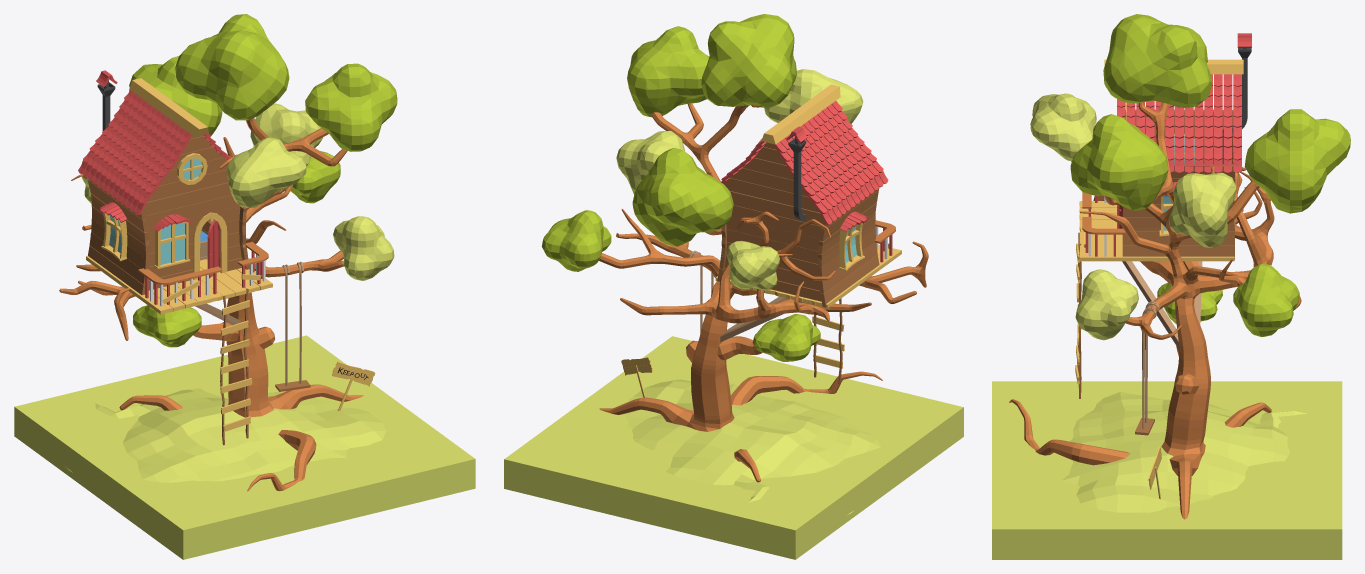
The model's file is Low Poly TreeHouse By EdwinRC.fbx.
3 views of the same model, side by side, from view 1: azimuth 30°, elevation 25°; view 2: azimuth 150°, elevation 25°; view 3: azimuth 270°, elevation 25° (orthographic). The views are drawn at different scales.
Parts seen in each view (by area): view 1: Cube.003, Plane.008, Cube.008, Plane.009, Cube.063, Cube, Cube.022, Cube.057, Cube.015; view 2: Plane.008, Cube.003, Cube.008, Plane.009, Cube.057, Cube.063; view 3: Plane.008, Cube.003, Plane.009, Cube.008, Cube.057, Cube, Cube.063.
Boxes of the visible parts, x1,y1,x2,y2 form: Cube.003: (14,335,475,559); Plane.008: (59,14,397,491); Cube.008: (78,78,272,314); Plane.009: (66,388,385,482); Cube.063: (220,288,252,445); Cube: (282,261,303,385); Cube.022: (332,362,375,410); Cube.057: (96,70,117,130); Cube.015: (207,220,220,278); Plane.008: (542,14,928,482); Cube.003: (504,336,963,559); Cube.008: (715,84,901,308); Plane.009: (626,379,880,514); Cube.057: (786,126,807,220); Cube.063: (812,298,844,383); Plane.008: (1009,14,1350,519); Cube.003: (992,381,1342,559); Plane.009: (1061,392,1307,512); Cube.008: (1079,59,1243,261); Cube.057: (1222,33,1251,164); Cube: (1142,301,1159,429); Cube.063: (1075,232,1081,398).
Bounding box in the file's own units: 3511 × 4501 × 3182.
